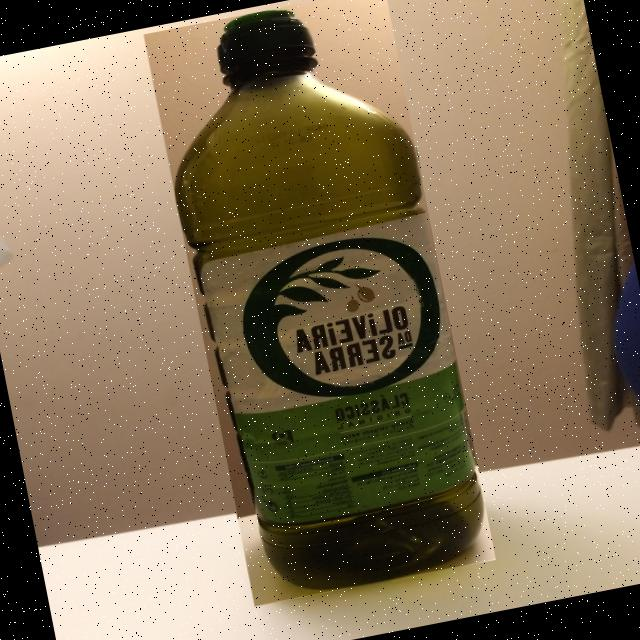Other plastic container: (176, 11, 486, 590)
